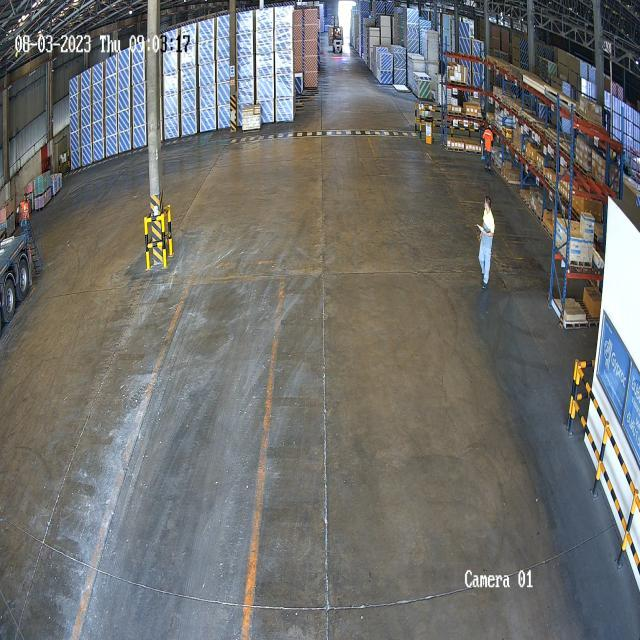person: (476, 194, 496, 294), (482, 126, 493, 166)
